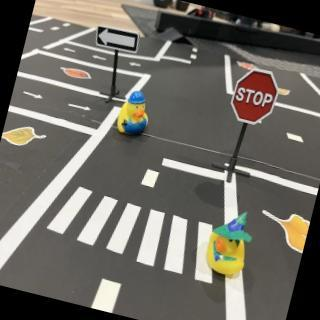duck_regular: (201, 208, 256, 282)
duck_specialty: (114, 88, 155, 140)
road_crosswalk: (40, 178, 233, 288)
road_oneway: (66, 99, 96, 118), (21, 85, 48, 104), (90, 52, 111, 67), (61, 44, 80, 57), (128, 59, 145, 72)
sign_oneway_left: (92, 24, 142, 58)
sign_stop: (225, 65, 284, 132)
